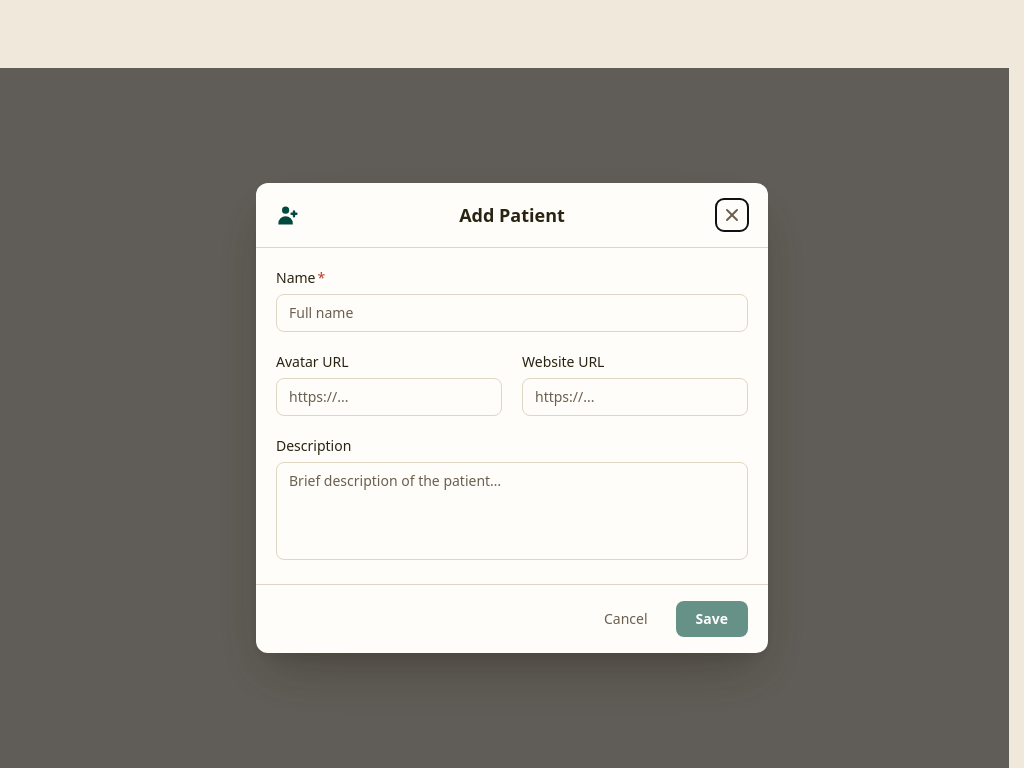
Test case: PatientFormModal — add mode › Save is disabled until a valid name is entered
Expected: the button "Save" is disabled, [676,601,748,637]
Type "John" into the field labelled "Name*" at coordinates (512, 313), box [276,294,748,332]
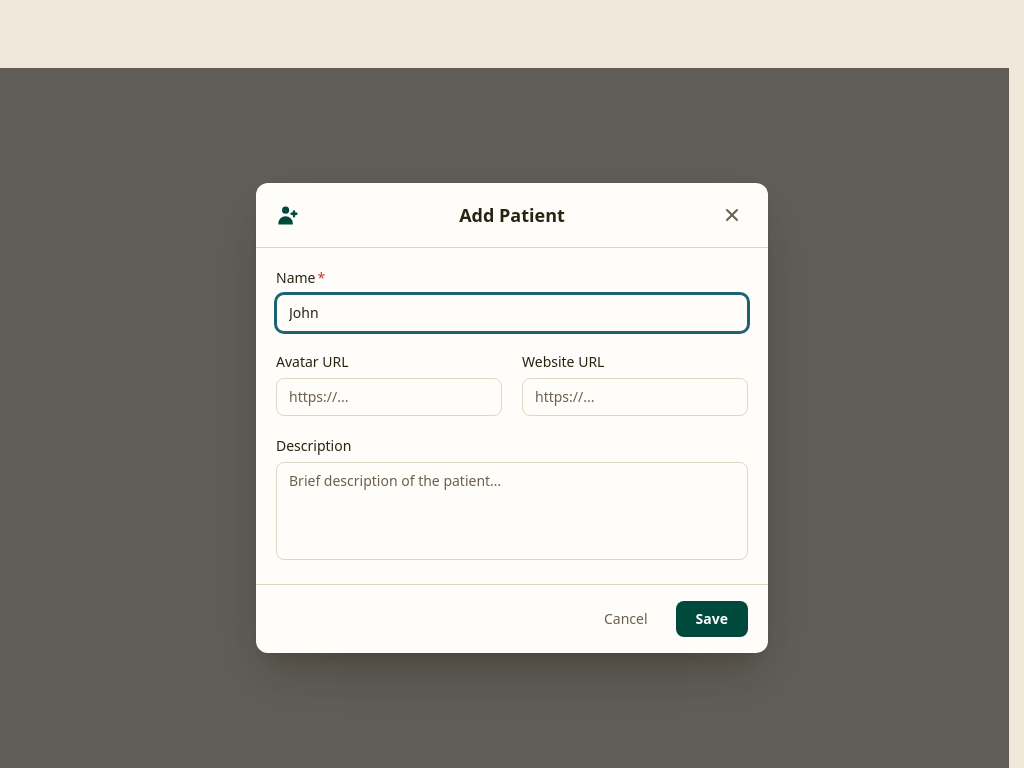
Result: the button "Save" is enabled at [676,601,748,637]
